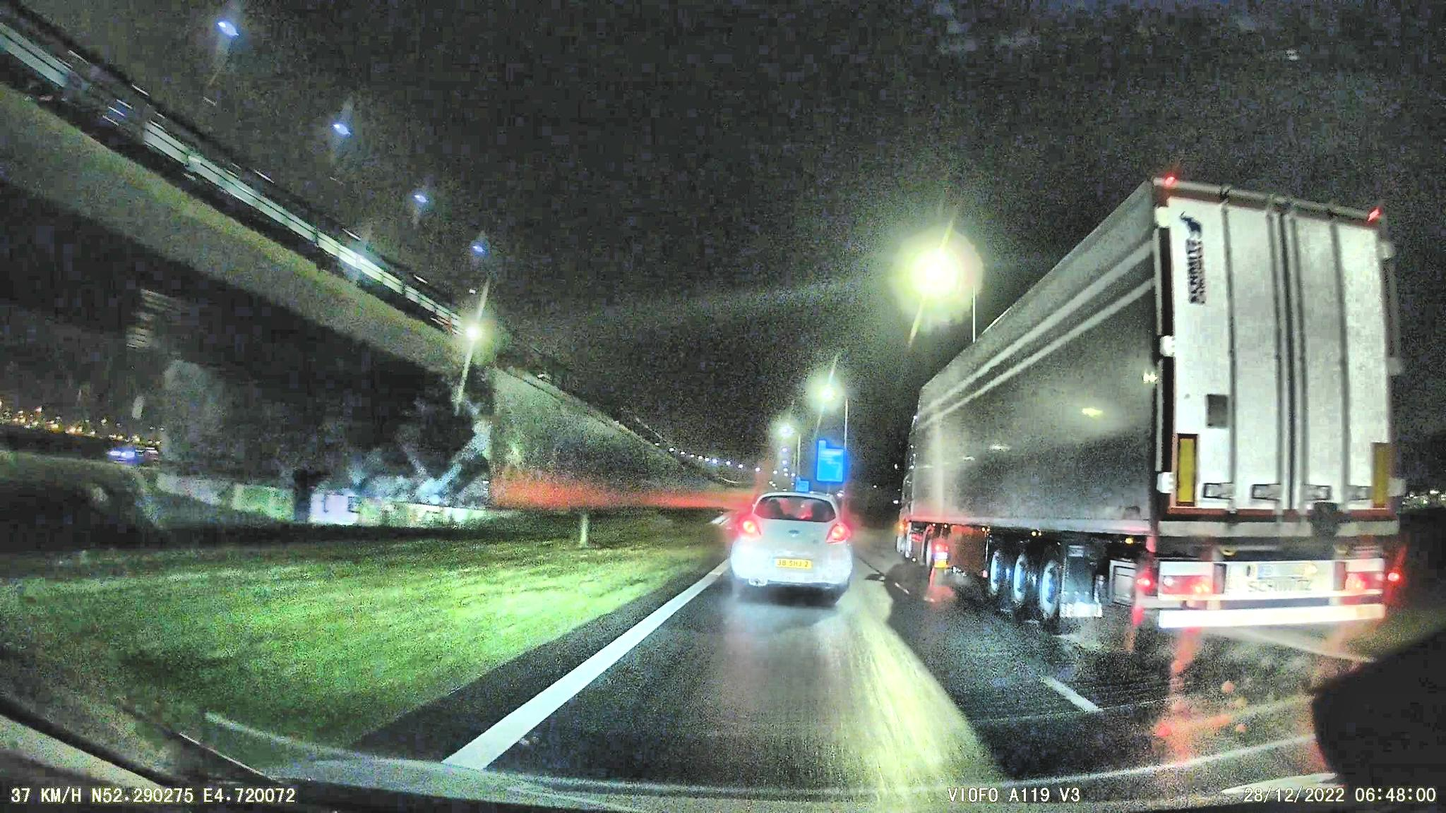Roads: (207, 527, 1148, 813)
